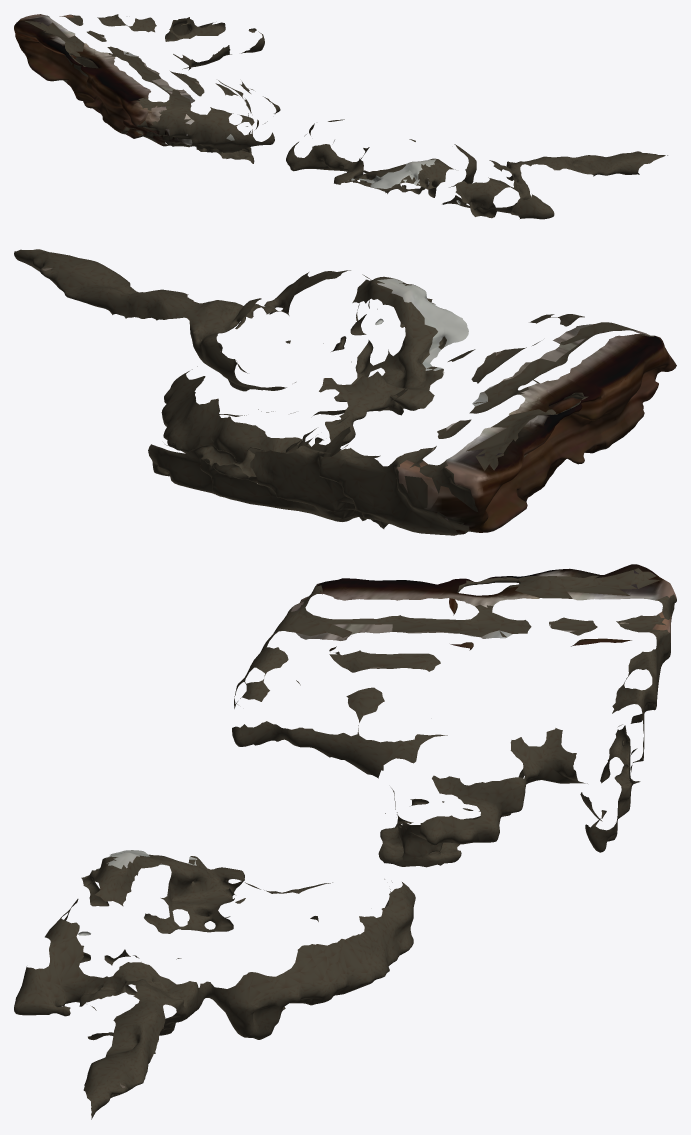
Rendered from interior.glb.
3 renders of one model, top to bottom at view 1: azimuth 30°, elevation 25°; view 2: azimuth 150°, elevation 25°; view 3: azimuth 270°, elevation 25°, orthographic. The views are drawn at different scales.
Size of the model in its own units: 1.02 by 0.3058 by 0.7844.
Materials: 1 (1 with a texture image).
